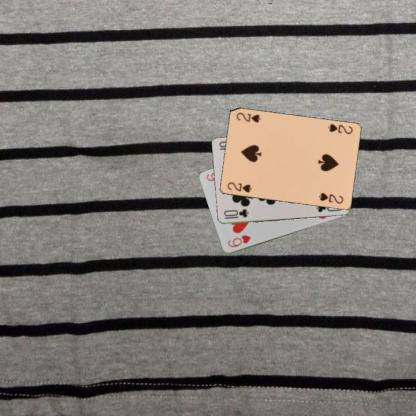10c: (221, 206, 250, 220)
2s: (325, 122, 354, 136), (225, 180, 252, 194)
6h: (225, 232, 252, 249)
